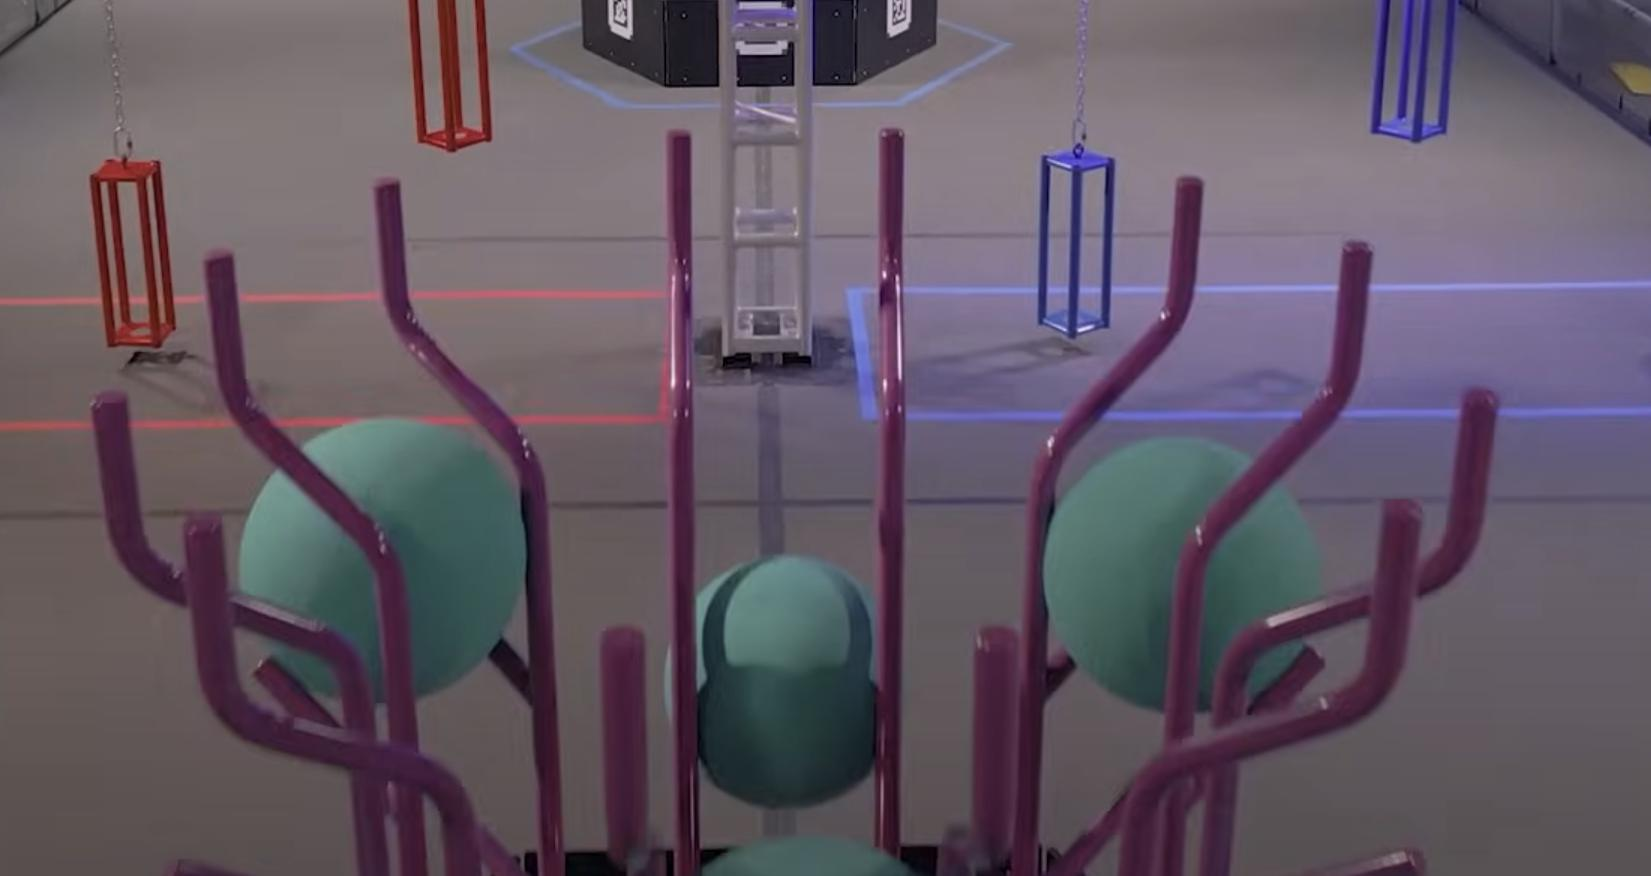algae: (236, 415, 527, 703), (1040, 434, 1325, 713), (663, 559, 880, 808), (705, 838, 915, 876)
